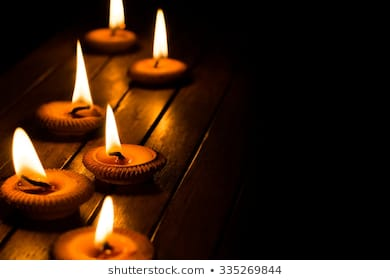Fire: (2, 121, 50, 184), (65, 36, 98, 115), (99, 104, 125, 156), (149, 8, 173, 60), (97, 192, 118, 244)
